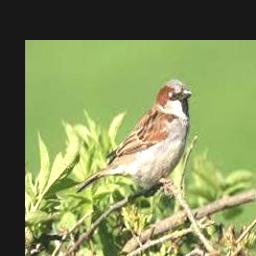Sparrow: (74, 79, 192, 195)
